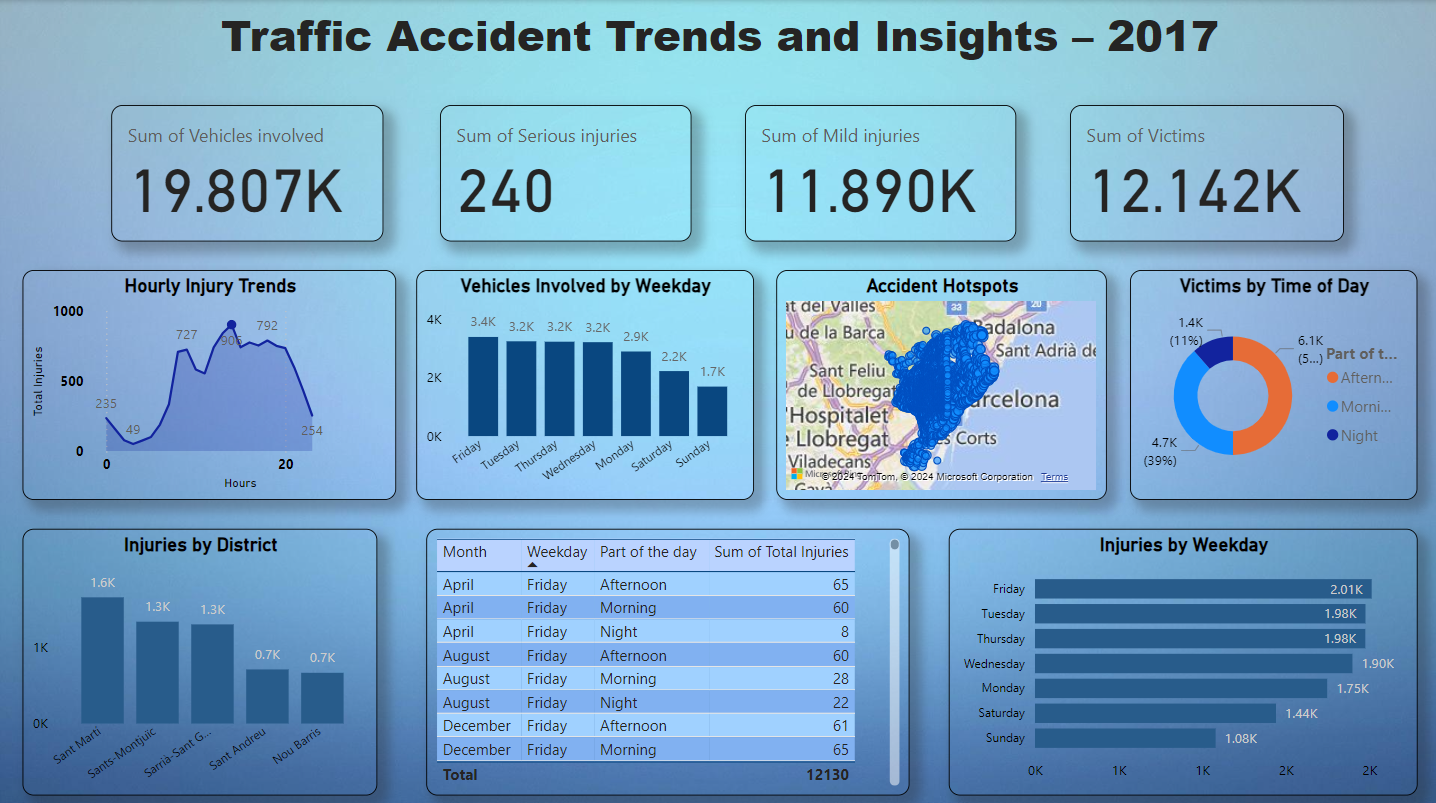

What the dashboard file says about the page in this screenshot:
{"tool":"powerbi","page":{"name":"Page 1","canvas":[1280,720],"ordinal":0},"visuals":[{"type":"cardVisual","fields":{"Data":["Sum(accidents_2017.Victims)"]},"box":[950.7,94.1,243.7,121.9],"z":0},{"type":"cardVisual","fields":{"Data":["Sum(accidents_2017.Serious injuries)"]},"box":[361.9,94.1,223.2,121.9],"z":1000},{"type":"clusteredColumnChart","title":"Injuries by District","fields":{"Category":["accidents_2017.District Name"],"Y":["Sum(accidents_2017.Total Injuries)"]},"box":[20.5,470.5,316.1,237.7],"z":2000},{"type":"clusteredBarChart","title":"Injuries by Weekday","fields":{"Category":["accidents_2017.Weekday"],"Y":["Sum(accidents_2017.Total Injuries)"]},"box":[844.5,470.5,417.4,237.7],"z":3000},{"type":"cardVisual","fields":{"Data":["Sum(accidents_2017.Vehicles involved)"]},"box":[65.1,94.1,243.7,121.9],"z":4000},{"type":"cardVisual","fields":{"Data":["Sum(accidents_2017.Mild injuries)"]},"box":[640.6,94.1,241.3,121.9],"z":5000},{"type":"tableEx","fields":{"Values":["accidents_2017.Month","accidents_2017.Weekday","accidents_2017.Part of the day","Sum(accidents_2017.Total Injuries)"]},"box":[380,470.5,430.7,237.7],"z":6000},{"type":"lineChart","title":"Hourly Injury Trends","fields":{"Category":["accidents_2017.Hour"],"Y":["Sum(accidents_2017.Total Injuries)"]},"box":[20.5,240.1,333,205.1],"z":7000},{"type":"map","title":"Accident Hotspots","fields":{"X":["accidents_2017.Longitude"],"Y":["accidents_2017.Latitude"],"Size":["Count(accidents_2017.Total Injuries)"]},"box":[691.3,240.1,294.4,205.1],"z":8000},{"type":"clusteredColumnChart","title":"Vehicles Involved by Weekday","fields":{"Category":["accidents_2017.Weekday"],"Y":["Sum(accidents_2017.Vehicles involved)"]},"box":[370.4,240.1,300.4,205.1],"z":9000},{"type":"donutChart","title":"Victims by Time of Day","fields":{"Category":["accidents_2017.Part of the day"],"Y":["Sum(accidents_2017.Victims)"]},"box":[1006.2,240.1,255.8,205.1],"z":10000},{"type":"textbox","box":[0,0,1280,66.4],"z":11000}]}

Visuals, with their boxes in screenshot pixels (x1, y1, x2, y2), scaled from the page's 1280x720 canvas onto the 1436x803 screenshot:
cardVisual - Sum(accidents_2017.Victims): <bbox>1067, 105, 1340, 241</bbox>
cardVisual - Sum(accidents_2017.Serious injuries): <bbox>406, 105, 656, 241</bbox>
"Injuries by District" clusteredColumnChart: <bbox>23, 525, 378, 790</bbox>
"Injuries by Weekday" clusteredBarChart: <bbox>947, 525, 1416, 790</bbox>
cardVisual - Sum(accidents_2017.Vehicles involved): <bbox>73, 105, 346, 241</bbox>
cardVisual - Sum(accidents_2017.Mild injuries): <bbox>719, 105, 989, 241</bbox>
tableEx - accidents_2017.Month x accidents_2017.Weekday: <bbox>426, 525, 910, 790</bbox>
"Hourly Injury Trends" lineChart: <bbox>23, 268, 397, 497</bbox>
"Accident Hotspots" map: <bbox>776, 268, 1106, 497</bbox>
"Vehicles Involved by Weekday" clusteredColumnChart: <bbox>416, 268, 753, 497</bbox>
"Victims by Time of Day" donutChart: <bbox>1129, 268, 1416, 497</bbox>
textbox: <bbox>0, 0, 1435, 74</bbox>
